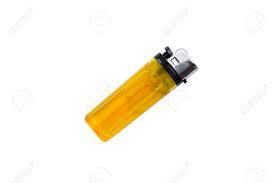lighter: (87, 41, 199, 147)
